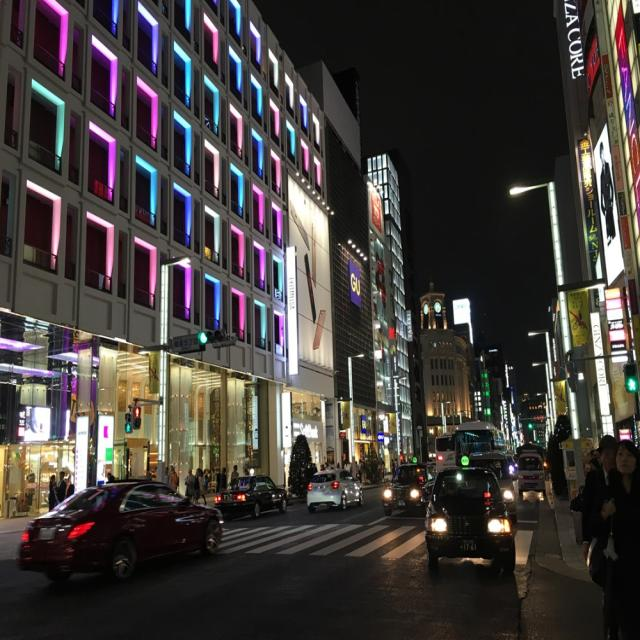body: (585, 438, 640, 640), (581, 434, 619, 553), (596, 138, 618, 248), (372, 250, 388, 321), (502, 417, 524, 448), (48, 474, 60, 514), (53, 470, 67, 504), (24, 470, 36, 507), (184, 468, 196, 501), (583, 449, 600, 472), (198, 468, 208, 507), (193, 467, 202, 504), (243, 467, 253, 497), (312, 460, 341, 470), (170, 467, 179, 497), (208, 466, 218, 493), (220, 466, 227, 492), (357, 457, 364, 483), (343, 458, 350, 482), (168, 466, 175, 489), (230, 464, 240, 480), (149, 465, 158, 482), (66, 473, 72, 498), (163, 466, 170, 485), (380, 459, 386, 481), (353, 460, 359, 482), (400, 456, 416, 464), (376, 461, 382, 482), (393, 457, 399, 477), (390, 458, 396, 477), (106, 472, 115, 483), (125, 466, 132, 479)
